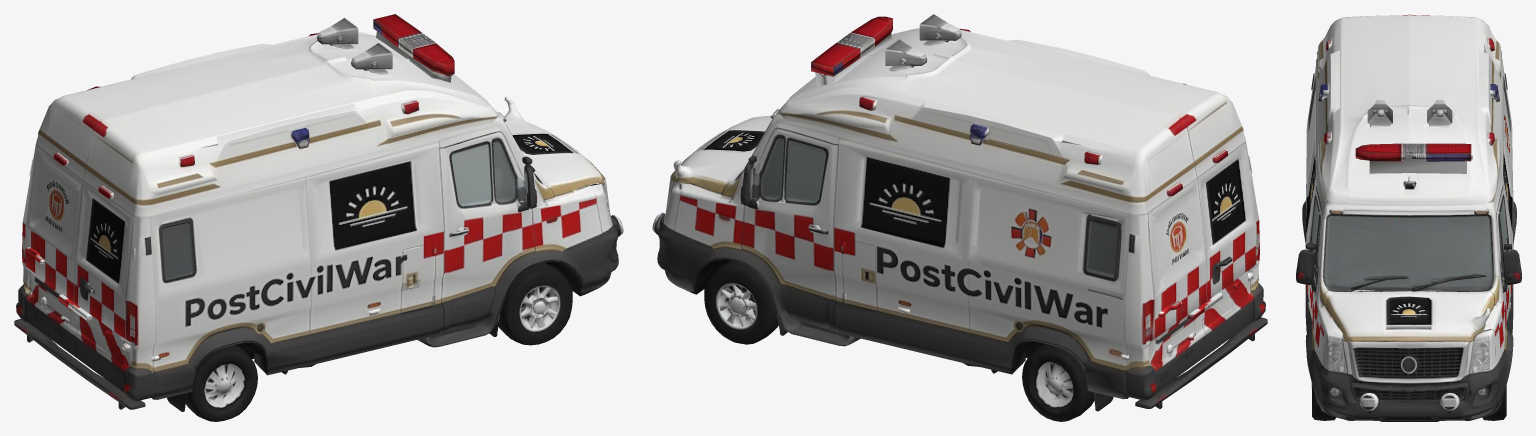
The model's file is vehicle-ambulance.lite.glb.
3 views of the same model, side by side, from view 1: azimuth 30°, elevation 25°; view 2: azimuth 150°, elevation 25°; view 3: azimuth 270°, elevation 25° (orthographic). The views are drawn at different scales.
Visible parts, largest first — view 1: tripo_node_40550d84-f35e-4f2c-9ec1-f266ece5998c; view 2: tripo_node_40550d84-f35e-4f2c-9ec1-f266ece5998c; view 3: tripo_node_40550d84-f35e-4f2c-9ec1-f266ece5998c.
Part boxes in pixels (<box>): tripo_node_40550d84-f35e-4f2c-9ec1-f266ece5998c: <box>14,14,623,421</box>; tripo_node_40550d84-f35e-4f2c-9ec1-f266ece5998c: <box>652,14,1267,421</box>; tripo_node_40550d84-f35e-4f2c-9ec1-f266ece5998c: <box>1296,14,1521,421</box>.
Size of the model in its own units: 0.9995 by 0.5415 by 0.4282.
Materials: 1 (1 with a texture image).
